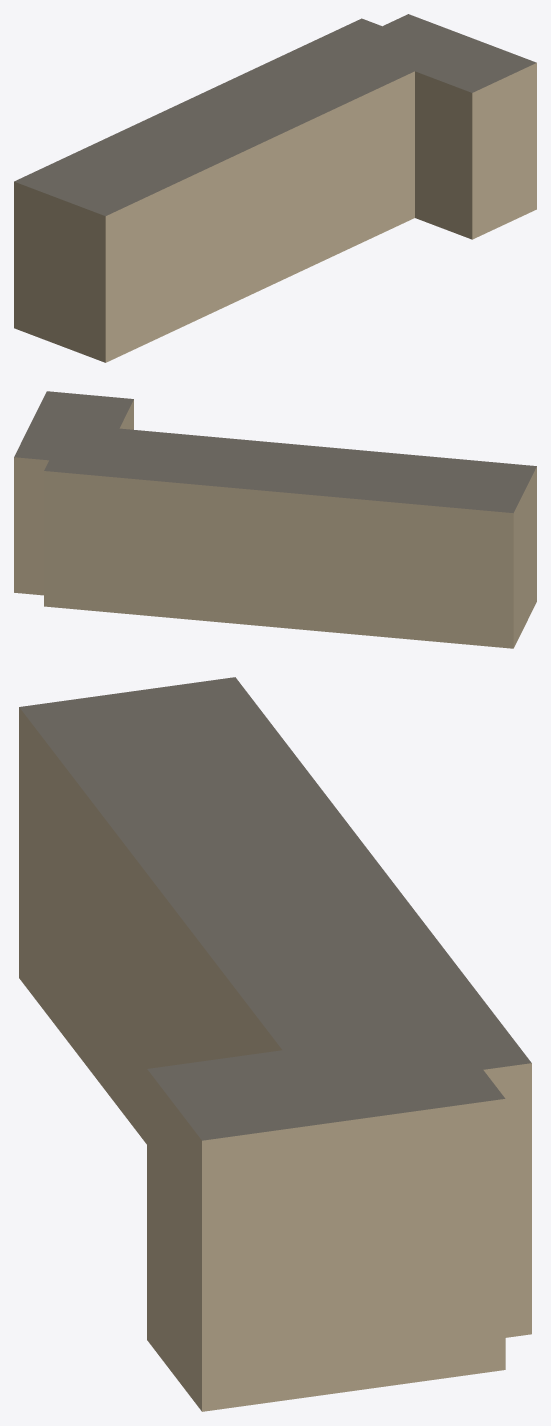
The picture shows the model from 3 angles, top to bottom: view 1: azimuth 30°, elevation 25°; view 2: azimuth 150°, elevation 25°; view 3: azimuth 270°, elevation 25°; orthographic projection. The views are drawn at different scales.
Parts seen in each view (by area): view 1: HP-w1385510828; view 2: HP-w1385510828; view 3: HP-w1385510828.
Boxes of the visible parts, x1,y1,x2,y2 form: HP-w1385510828: (14, 14, 536, 362); HP-w1385510828: (14, 391, 536, 648); HP-w1385510828: (19, 677, 531, 1411).
Size of the model in its own units: 72.6 by 19.8 by 33.93.
